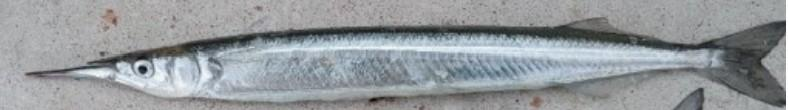fish: (23, 14, 787, 109)
